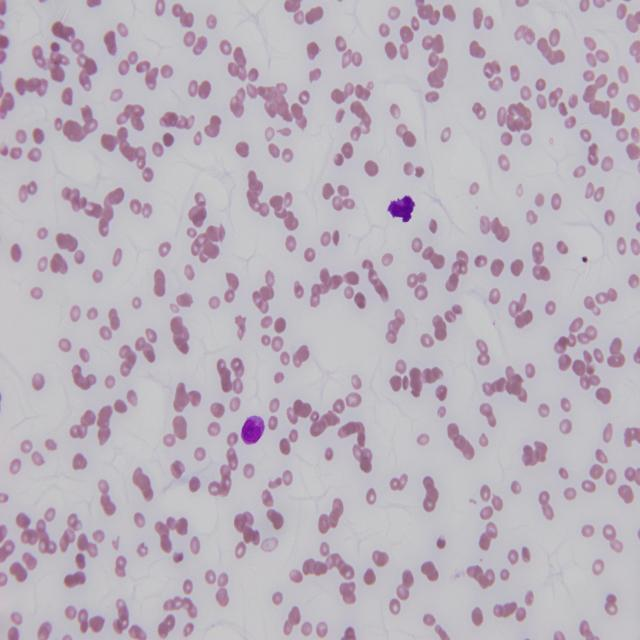cell: (388, 196, 415, 222), (241, 416, 265, 445)
